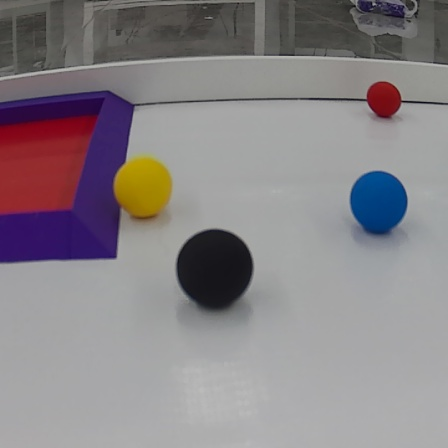black: (172, 226, 255, 318)
blue: (347, 169, 412, 241)
red: (363, 80, 403, 124)
red_aim: (0, 83, 137, 266)
yellow: (111, 158, 174, 222)
